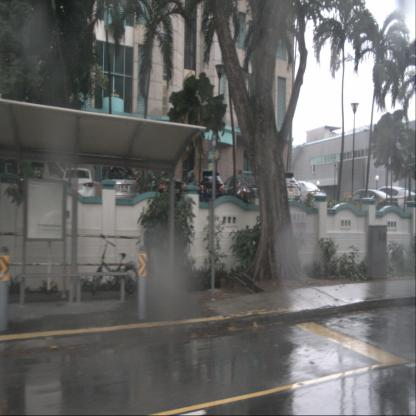vehicle-bicycle: (91, 234, 138, 296)
vehicle-car: (0, 155, 71, 206), (179, 171, 226, 208), (338, 188, 398, 216), (212, 175, 261, 207), (103, 166, 139, 206), (284, 180, 326, 214), (364, 186, 416, 212), (265, 171, 300, 209), (63, 168, 95, 209), (140, 170, 186, 198)
